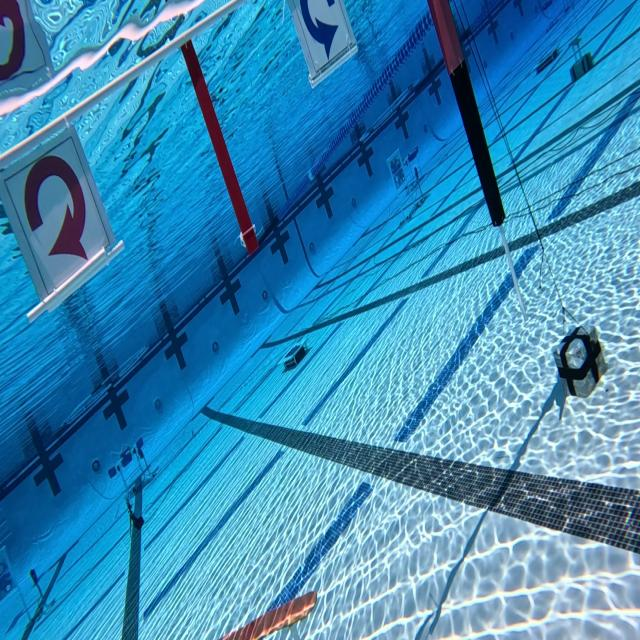red_side: (7, 129, 103, 281)
